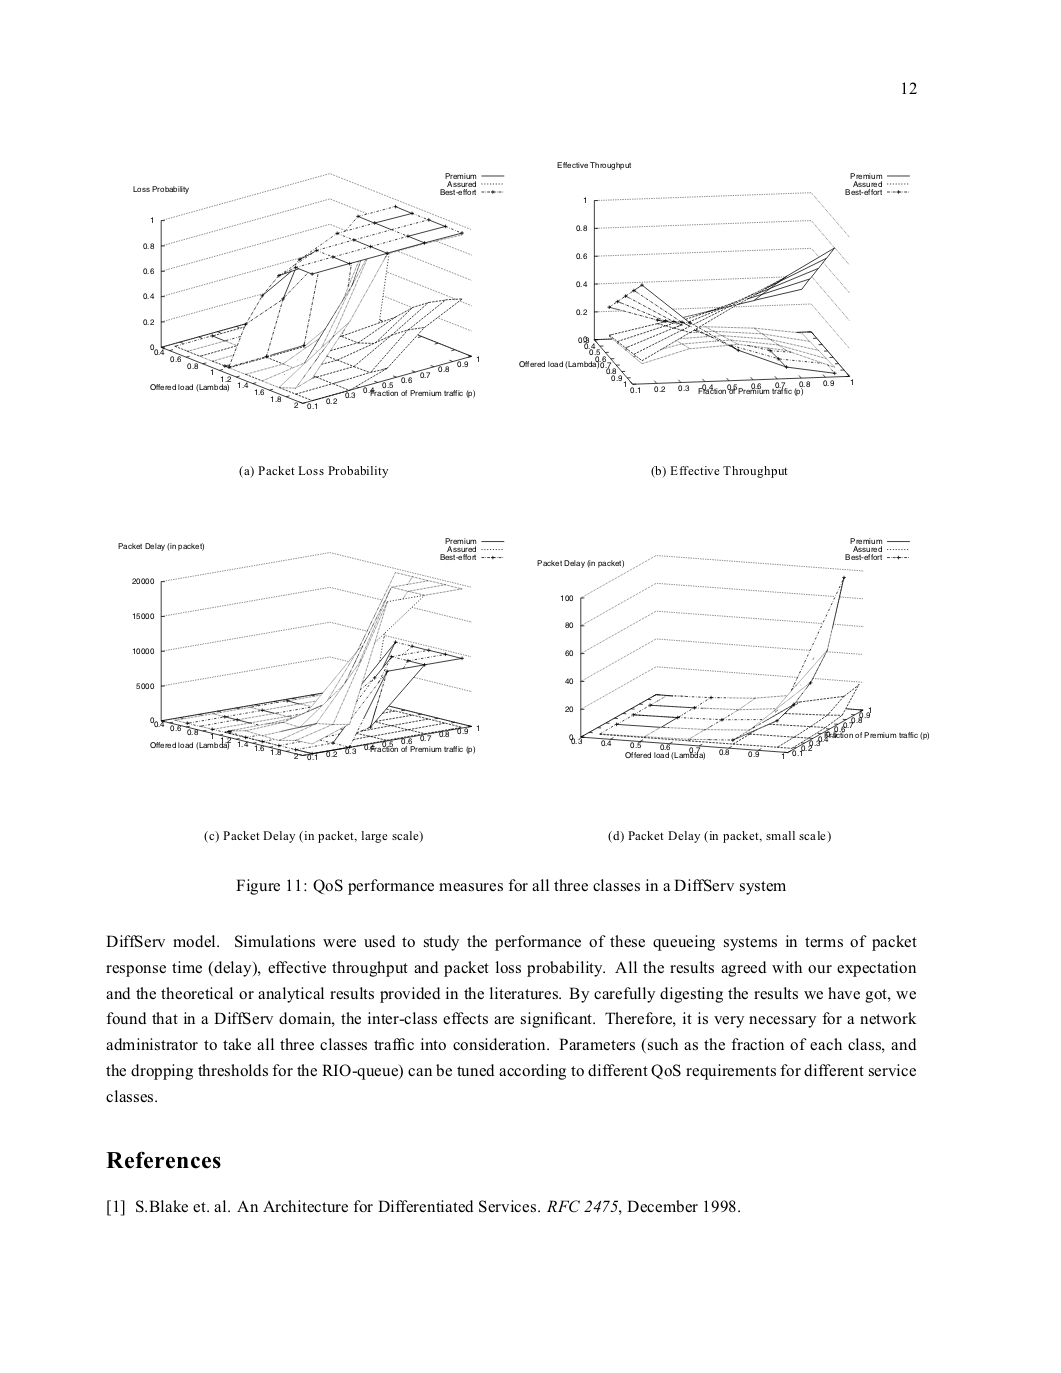figure: (133, 172, 504, 410), (519, 172, 909, 396), (537, 537, 928, 760), (118, 537, 504, 761)
